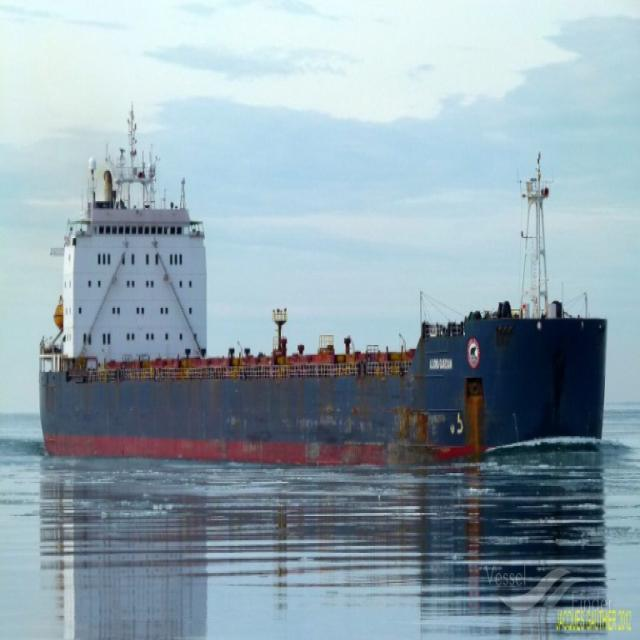OCR: (426, 348, 457, 382)
